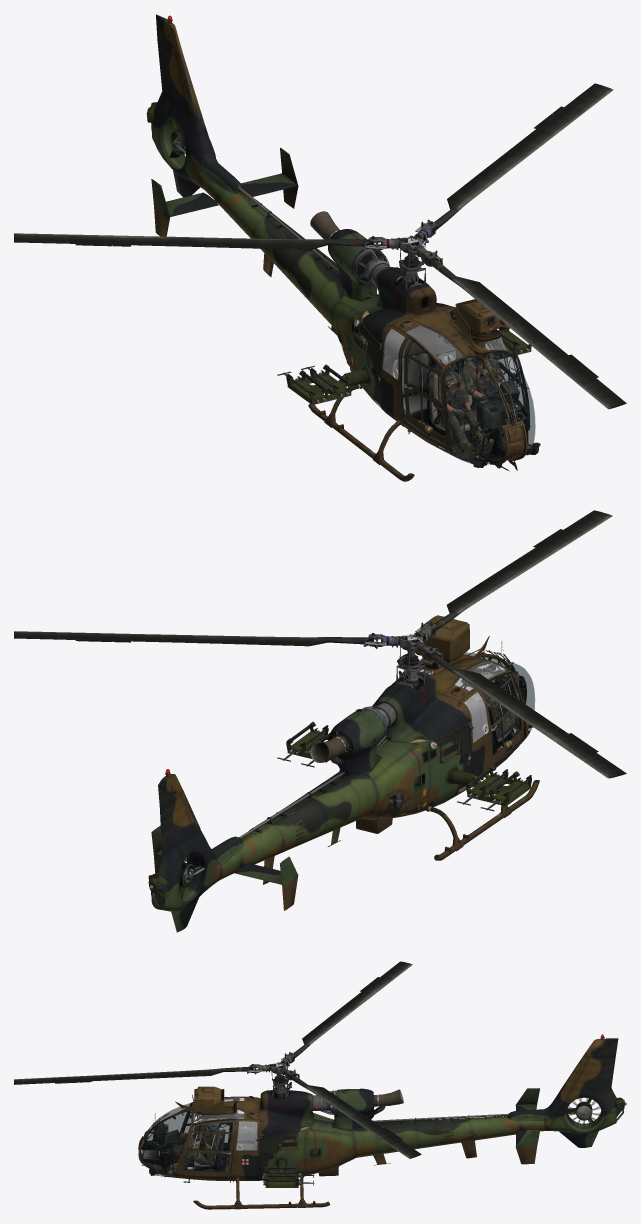
File: SUP_sa342m_gazelle.glb
The picture shows the model from 3 angles, top to bottom: view 1: azimuth 30°, elevation 25°; view 2: azimuth 150°, elevation 25°; view 3: azimuth 270°, elevation 25°; orthographic projection. The views are drawn at different scales.
Visible parts, largest first — view 1: SUP_sa342m_gazelle; view 2: SUP_sa342m_gazelle; view 3: SUP_sa342m_gazelle.
Part boxes in pixels (left/top/right/bottom): SUP_sa342m_gazelle: left=14, top=14, right=626, bottom=481; SUP_sa342m_gazelle: left=14, top=510, right=626, bottom=932; SUP_sa342m_gazelle: left=14, top=961, right=626, bottom=1209.
Bounding box in the file's own units: 12.95 × 4.73 × 17.02.
Materials: 92 (85 with a texture image).
